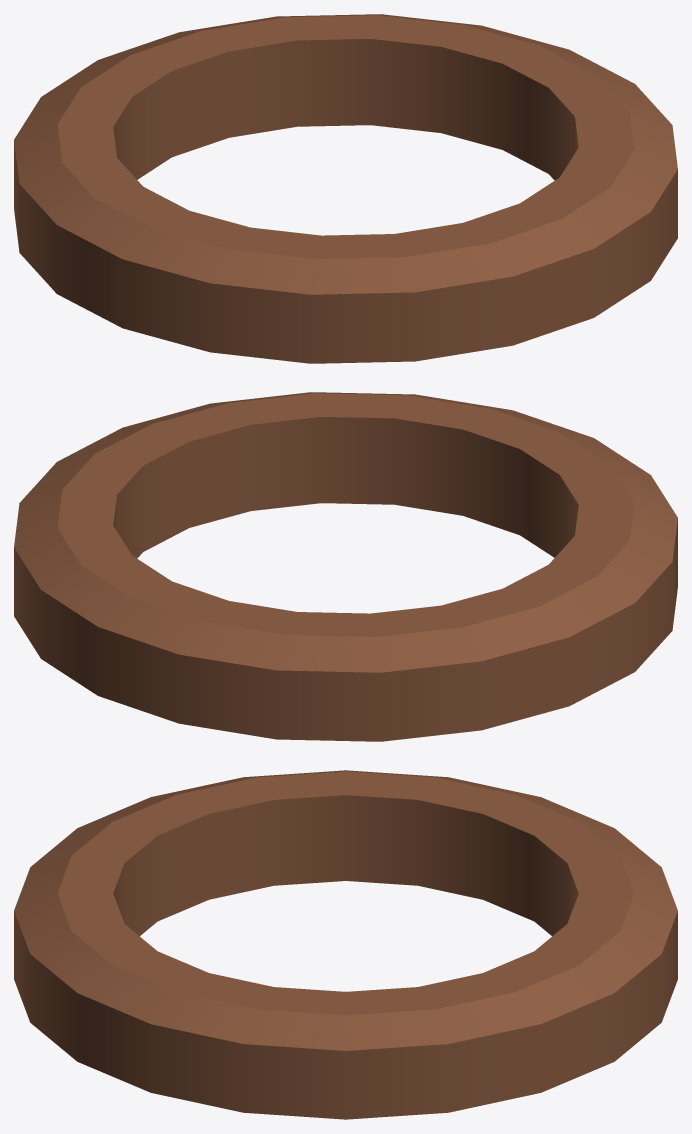
The picture shows the model from 3 angles, top to bottom: view 1: azimuth 30°, elevation 25°; view 2: azimuth 150°, elevation 25°; view 3: azimuth 270°, elevation 25°; orthographic projection.
Visible parts, largest first — view 1: Tube001; view 2: Tube001; view 3: Tube001.
Boxes of the visible parts, left/top/right/bottom form: Tube001: left=14, top=14, right=677, bottom=363; Tube001: left=14, top=392, right=677, bottom=741; Tube001: left=14, top=770, right=677, bottom=1119.
Size of the model in its own units: 86.28 by 12.31 by 86.28.
1 material, 1 textured.
